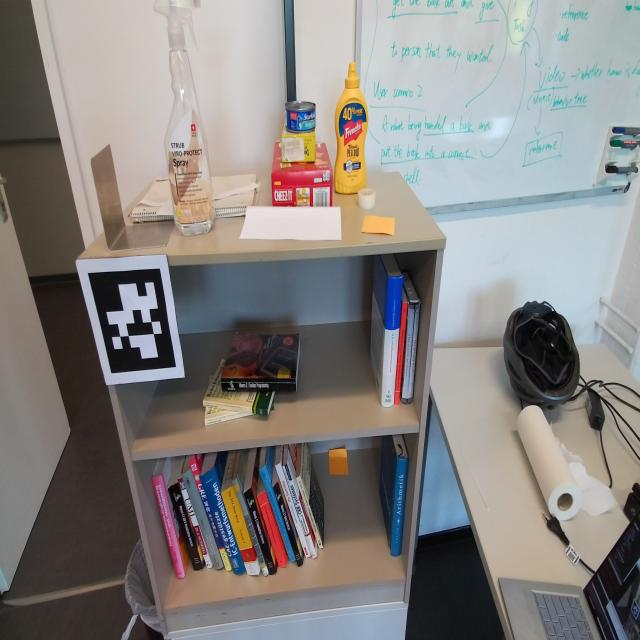Book Spine: (199, 467, 246, 574), (188, 457, 231, 571), (181, 468, 224, 570), (258, 464, 296, 562), (232, 476, 269, 576), (275, 462, 311, 558), (152, 475, 185, 579), (282, 462, 317, 559), (221, 486, 259, 575), (168, 483, 203, 571), (178, 478, 212, 568), (381, 275, 403, 407), (244, 488, 277, 575), (273, 482, 303, 567), (257, 491, 286, 567), (296, 476, 323, 549), (391, 457, 409, 557), (394, 302, 408, 405), (402, 304, 415, 403), (408, 304, 420, 404), (221, 378, 296, 392), (203, 400, 268, 416), (204, 412, 255, 426), (270, 404, 274, 411)
